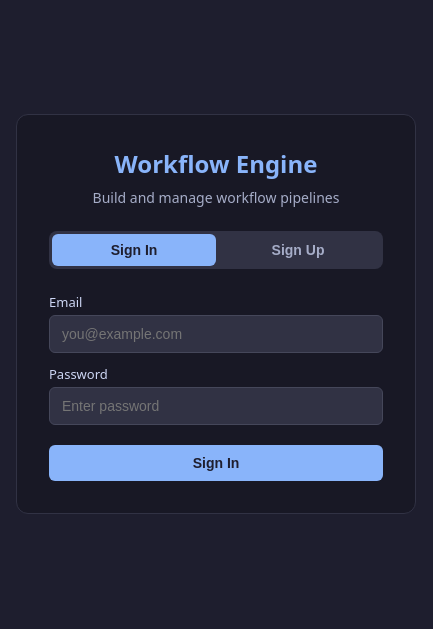
Test: LoginPage › shows short password error on sign-up
Click the button "Sign Up": (298, 250) [216, 234, 380, 266]
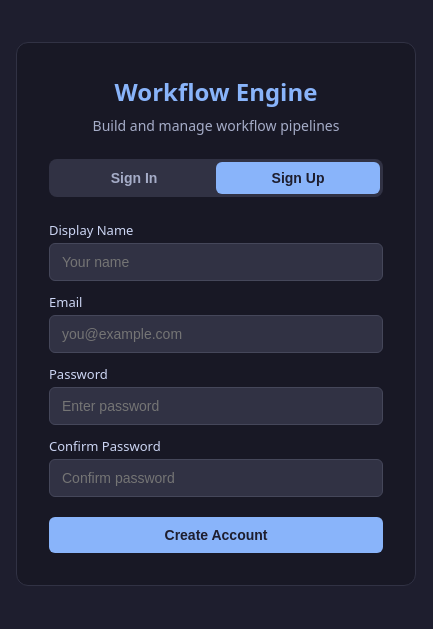
In the field with placeholder "you@example.com": (216, 334) [49, 315, 383, 353], type "test@test.com"
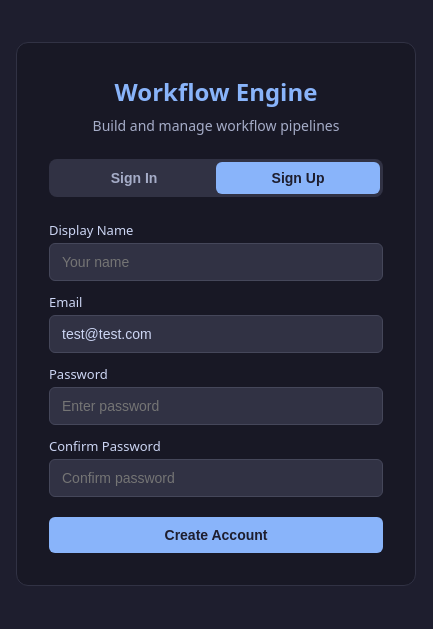
In the password field with placeholder "Enter password": (216, 406) [49, 387, 383, 425], type "pw"
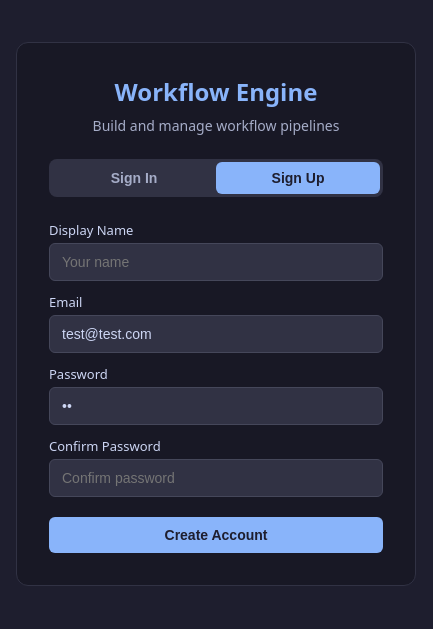
In the password field with placeholder "Confirm password": (216, 478) [49, 459, 383, 497], type "pw"
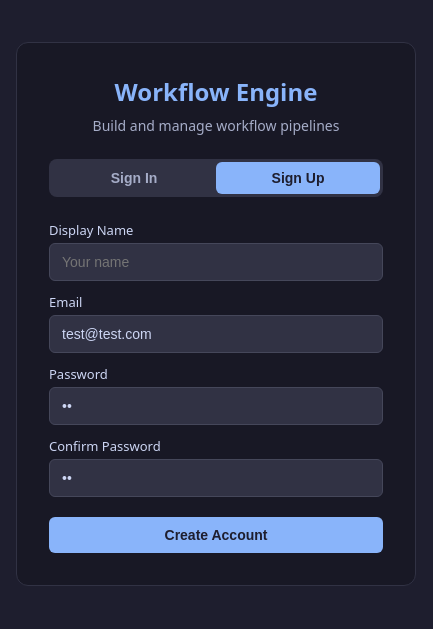
Click the button "Create Account": (216, 535) [49, 517, 383, 553]
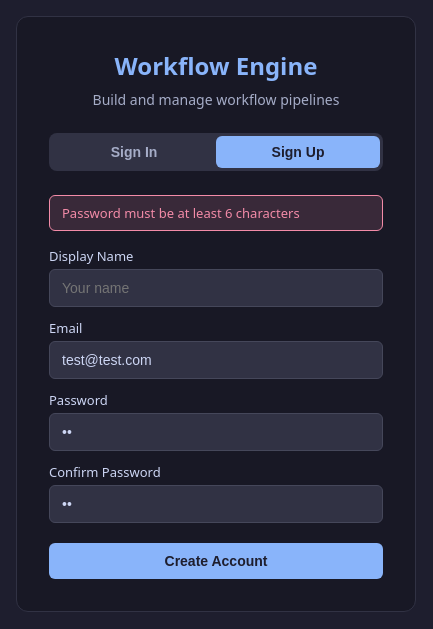
Now the text "Password must be at least 6 characters" is shown, box [49, 195, 383, 231]
